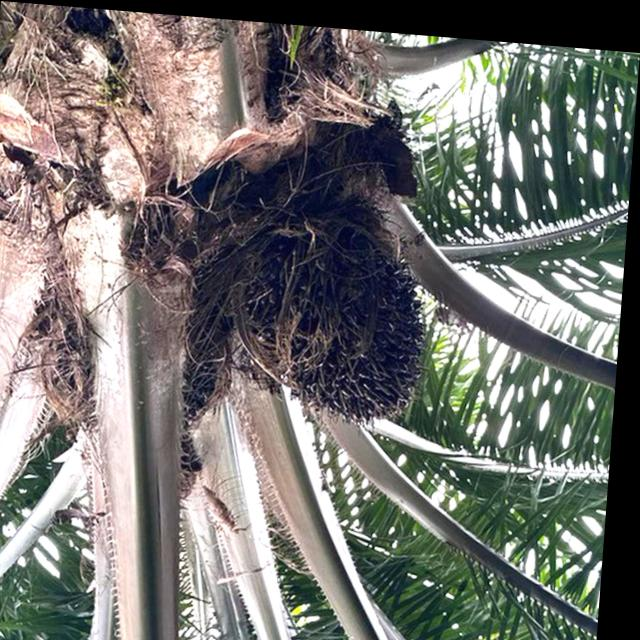ripe: (210, 175, 455, 437)
